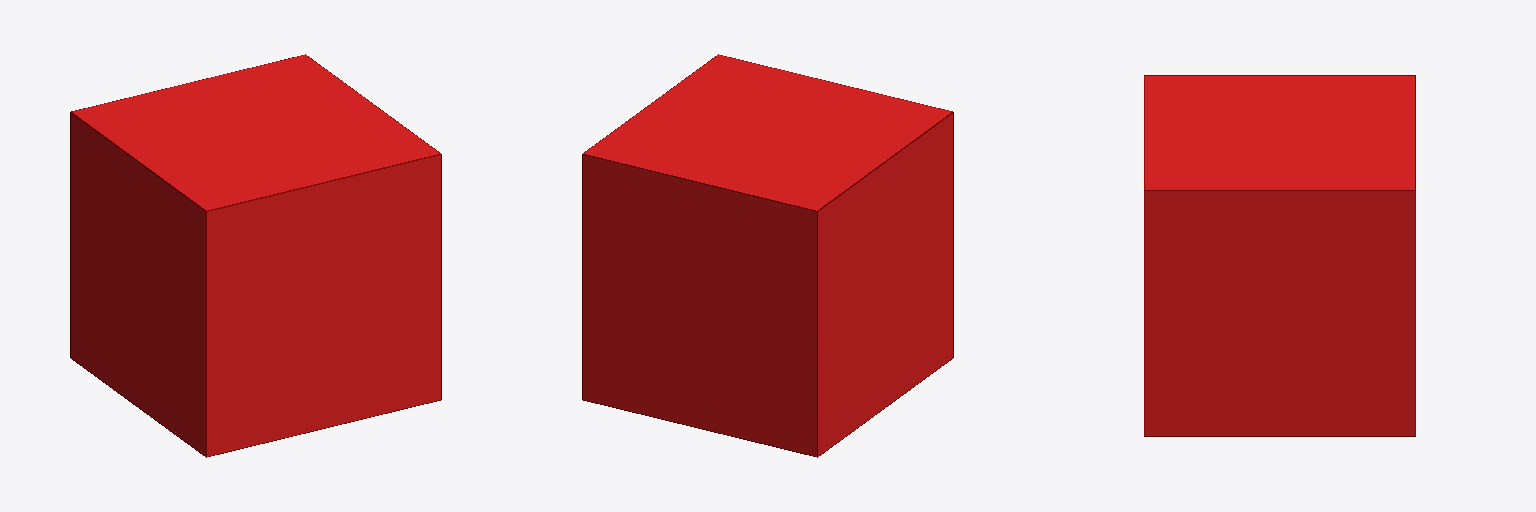
3 renders of one model, left to right at view 1: azimuth 30°, elevation 25°; view 2: azimuth 150°, elevation 25°; view 3: azimuth 270°, elevation 25°, orthographic.
Visible parts, largest first — view 1: 立方体; view 2: 立方体; view 3: 立方体.
Boxes of the visible parts, x1,y1,x2,y2 form: 立方体: [70, 54, 441, 457]; 立方体: [582, 54, 953, 457]; 立方体: [1144, 75, 1415, 436].
Bounding box in the file's own units: 2 × 2 × 2.
1 materials, 1 textured.